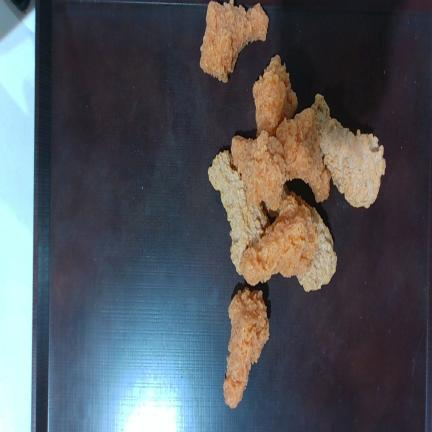chicken: (312, 94, 385, 208), (208, 151, 268, 275), (240, 193, 318, 284), (200, 0, 269, 82), (223, 287, 269, 408), (276, 108, 330, 202), (231, 131, 287, 211), (252, 55, 297, 135)
